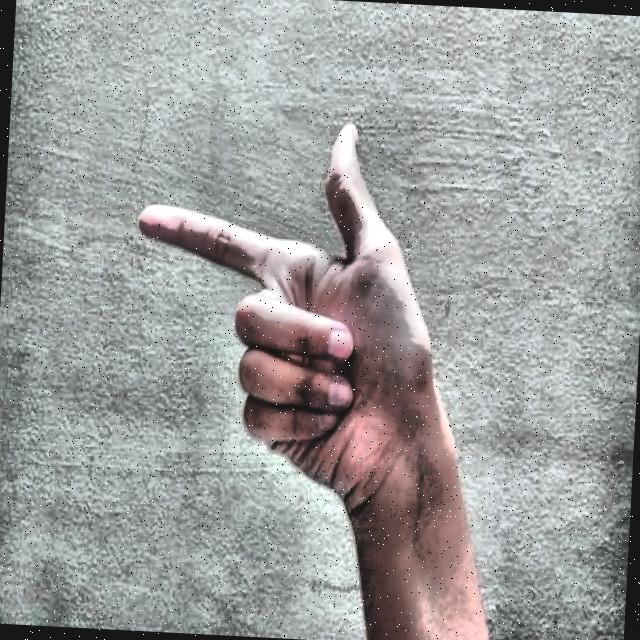Tho: (104, 74, 516, 531)
